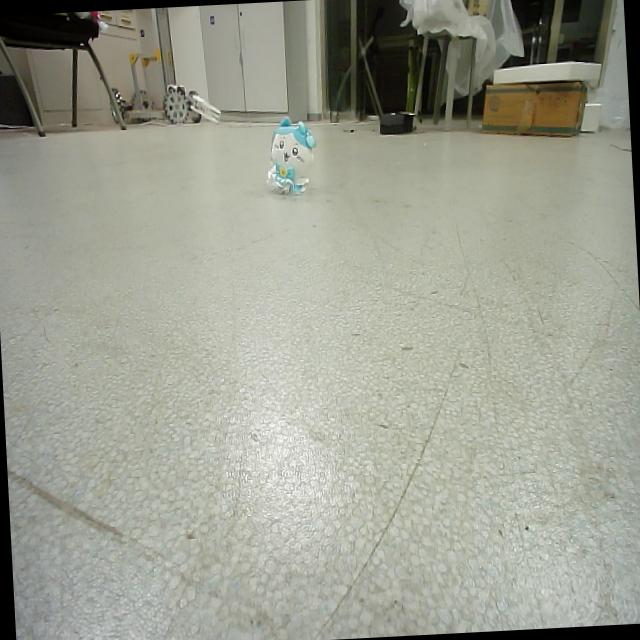xiaoba: (261, 111, 317, 196)
